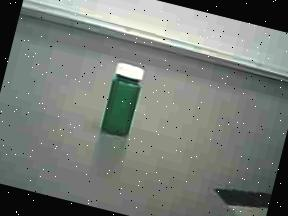Bottle C: (88, 51, 156, 148)
